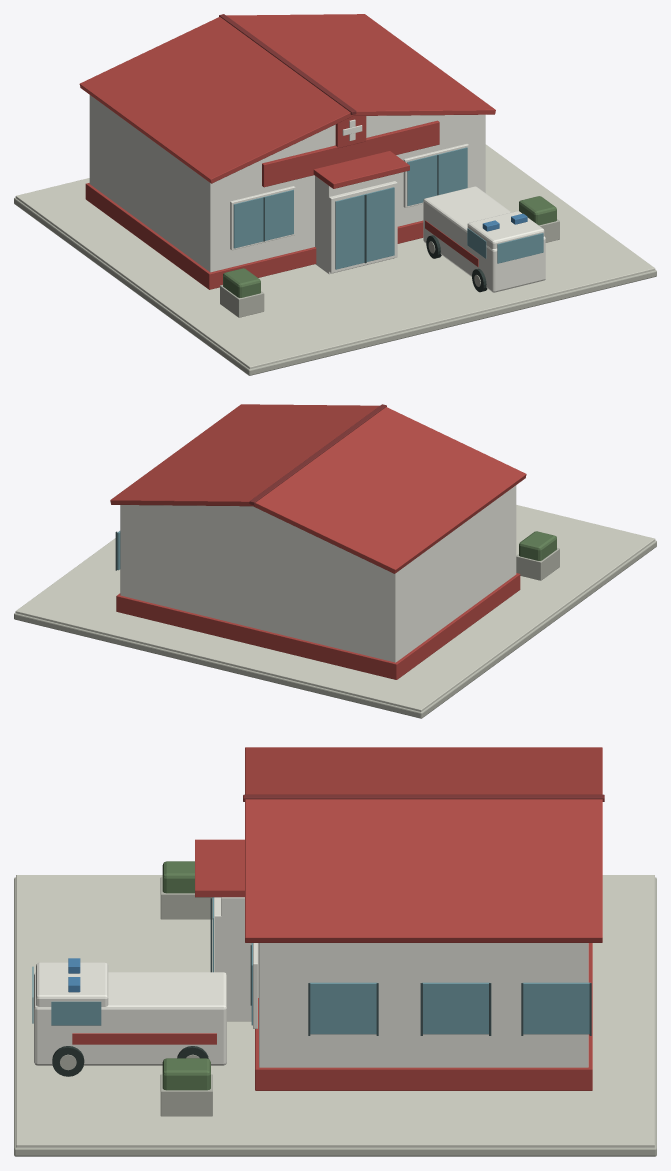
Rendered from medical-clinic.glb.
3 renders of one model, top to bottom at view 1: azimuth 30°, elevation 25°; view 2: azimuth 150°, elevation 25°; view 3: azimuth 270°, elevation 25°, orthographic. The views are drawn at different scales.
Visible parts, largest first — view 1: Paving, RedGableRoof, ClinicBody, RedGableRoof.001, AmbulanceBody, Lot, LowRedBase, EntryGlass, MedicalNameplate, WindowGlass, WindowGlass.001, GableWall (+12 smaller); view 2: ClinicBody, Paving, RedGableRoof, RedGableRoof.001, LowRedBase, Lot, GableWall.001, Planter, Shrub, Ridge; view 3: Paving, RedGableRoof.001, ClinicBody, RedGableRoof, AmbulanceBody, LowRedBase, Lot, MedicalSideGlass, MedicalSideGlass.002, MedicalSideGlass.001, EntryPorch, PorchRoof (+10 smaller).
Part boxes in pixels (x1,y1,x2,y2): Paving: [15, 144, 655, 368]; RedGableRoof: [79, 17, 352, 183]; ClinicBody: [89, 95, 485, 272]; RedGableRoof.001: [226, 14, 495, 115]; AmbulanceBody: [423, 186, 545, 292]; Lot: [14, 197, 656, 375]; LowRedBase: [85, 183, 423, 289]; EntryGlass: [335, 187, 394, 269]; MedicalNameplate: [262, 120, 439, 187]; WindowGlass: [233, 189, 293, 248]; WindowGlass.001: [407, 147, 467, 205]; GableWall: [239, 115, 466, 170]; ClinicBody: [120, 485, 516, 662]; Paving: [15, 505, 655, 711]; RedGableRoof: [251, 407, 526, 573]; RedGableRoof.001: [110, 404, 379, 506]; LowRedBase: [116, 573, 520, 679]; Lot: [14, 540, 656, 718]; GableWall.001: [138, 505, 366, 560]; Planter: [516, 548, 559, 580]; Shrub: [519, 531, 556, 560]; Ridge: [249, 404, 386, 505]; Paving: [16, 875, 654, 1147]; RedGableRoof.001: [245, 799, 602, 942]; ClinicBody: [259, 943, 588, 1067]; RedGableRoof: [245, 747, 602, 794]; AmbulanceBody: [34, 972, 226, 1065]; LowRedBase: [255, 943, 592, 1090]; Lot: [14, 877, 656, 1156]; MedicalSideGlass: [310, 982, 377, 1034]; MedicalSideGlass.002: [523, 982, 590, 1034]; MedicalSideGlass.001: [422, 982, 489, 1034]; EntryPorch: [221, 897, 258, 1021]; PorchRoof: [195, 839, 244, 897].
Size of the model in its own units: 16 by 5.9 by 16.
